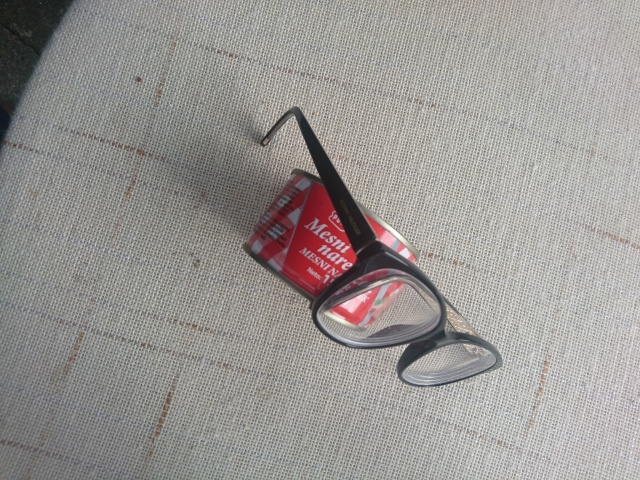Podravka Luncheon Meat 150g: (237, 165, 427, 335)
